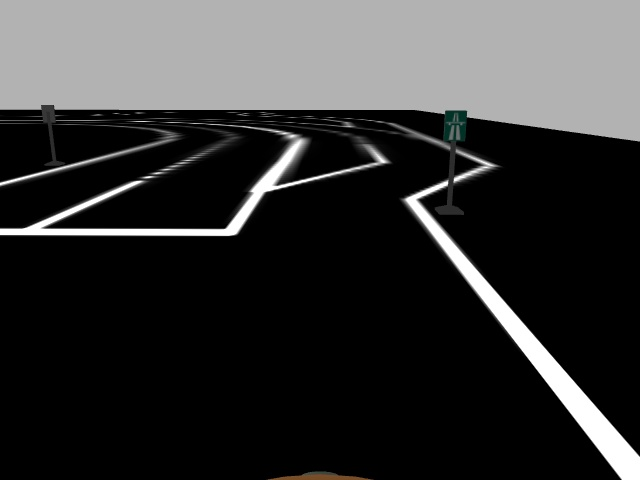enter_highway: (442, 109, 469, 143)
